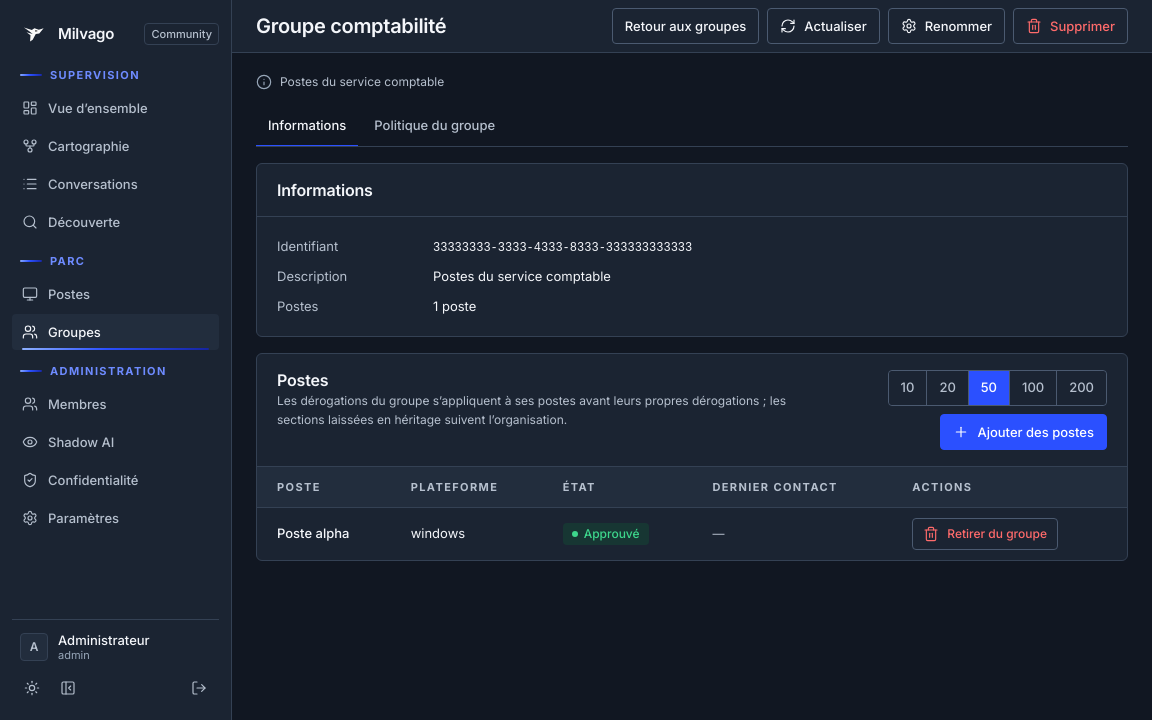
it: Device groups › deletes a group from its page and returns to the list with the confirmation
This screenshot has width=1152, height=720.
Expected: the heading "Groupe comptabilité" is shown, [256, 14, 446, 38]
Click the button "Supprimer".
click(1071, 26)  # box [1013, 8, 1128, 44]
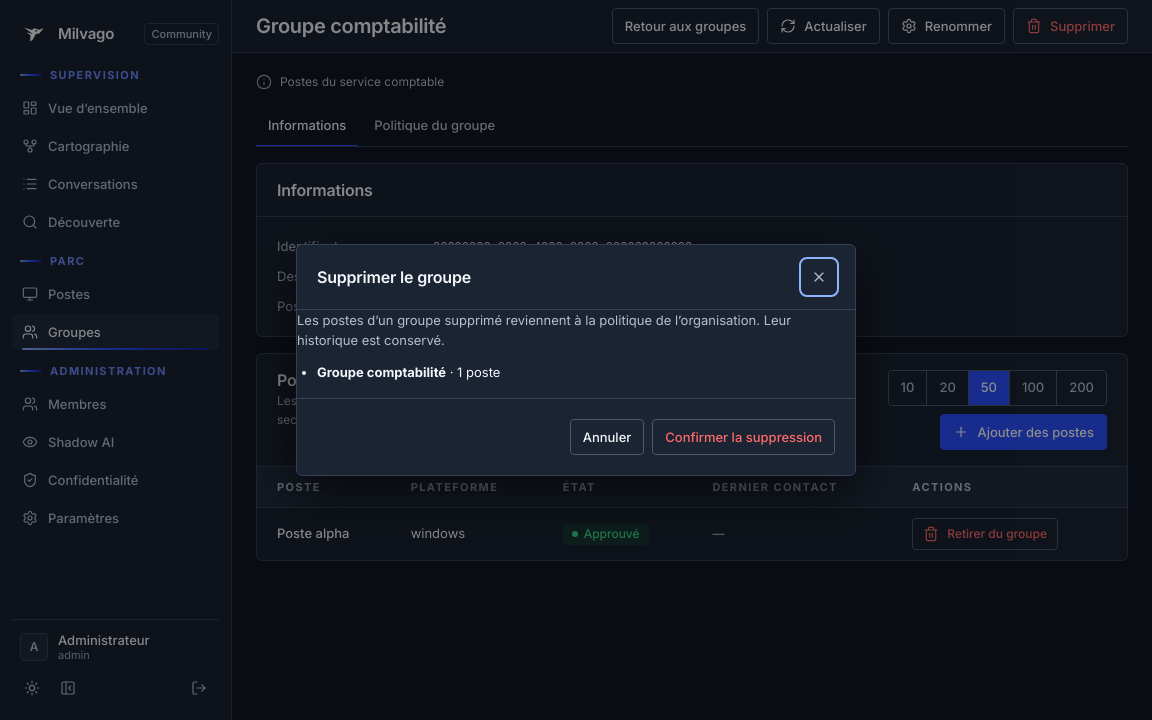
Now the text "reviennent à la politique de l’organisation" is shown, box [297, 312, 791, 348]
Click the button "Confirmer la suppression".
click(744, 437)  # box [652, 419, 835, 455]
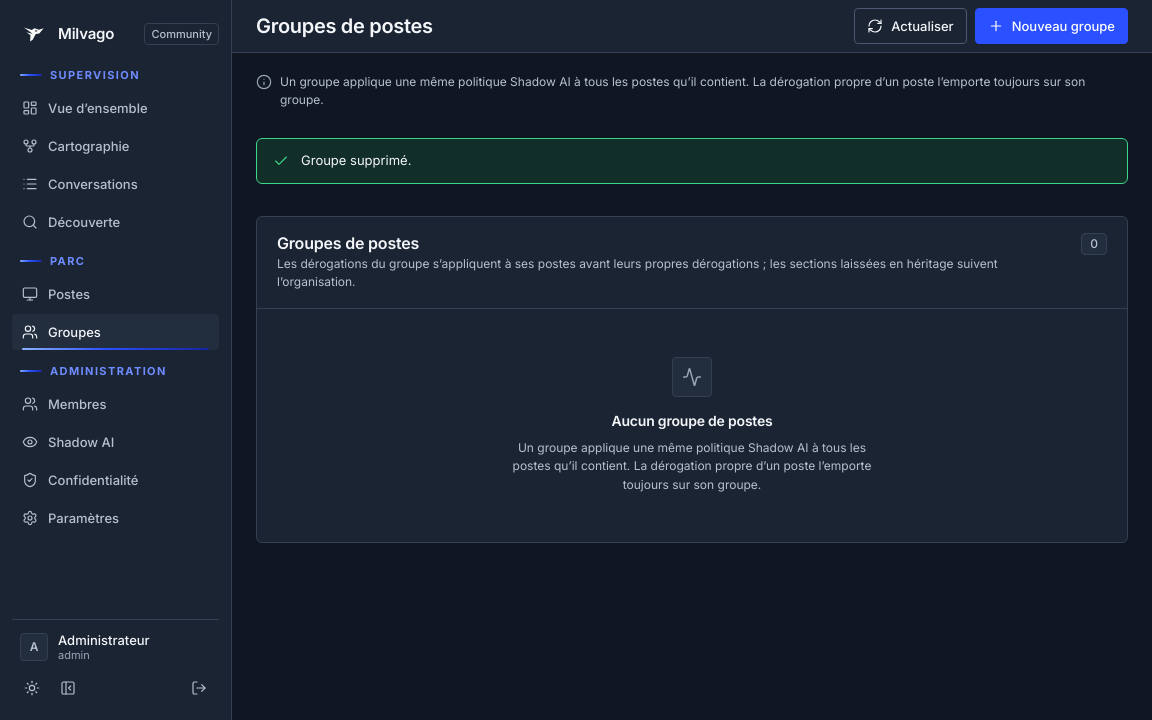
Now the heading "Aucun groupe de postes" is shown, box [612, 411, 773, 431]
